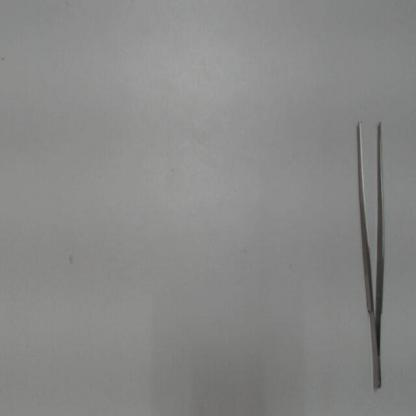Gillies Toothed Dissector: (351, 103, 387, 392)
